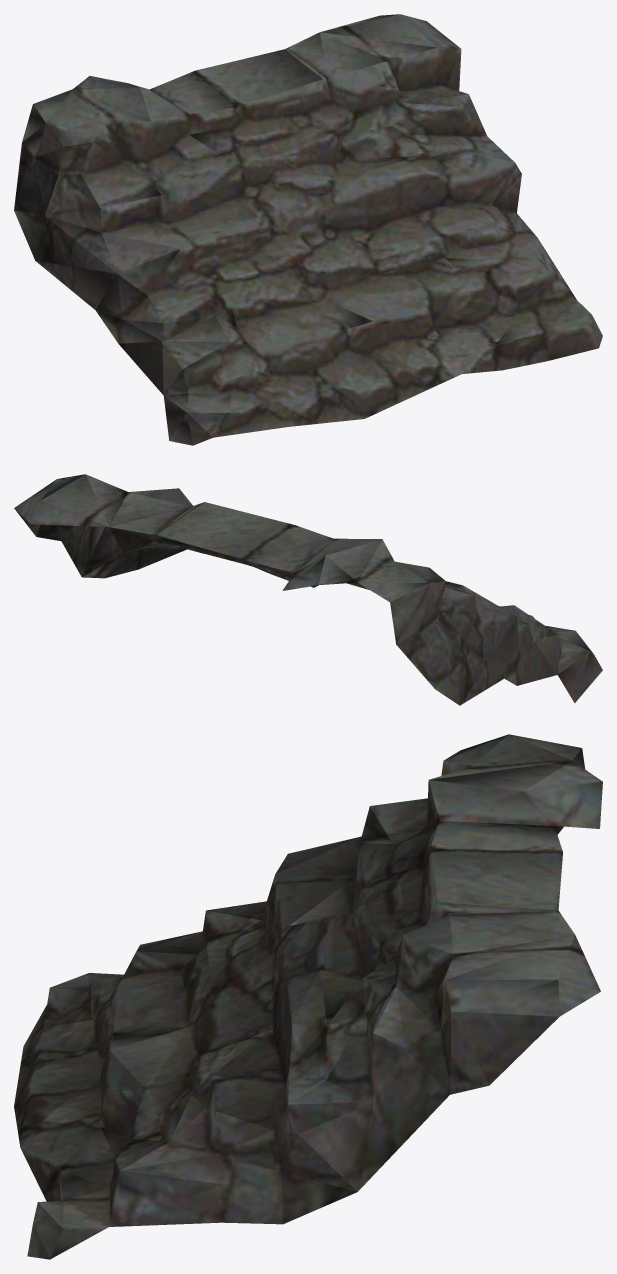
Rendered from S_Build_Desert119_2.FBX.
3 renders of one model, top to bottom at view 1: azimuth 30°, elevation 25°; view 2: azimuth 150°, elevation 25°; view 3: azimuth 270°, elevation 25°, orthographic. The views are drawn at different scales.
Parts seen in each view (by area): view 1: S_Build_Desert119_2; view 2: S_Build_Desert119_2; view 3: S_Build_Desert119_2.
Boxes of the visible parts, x1,y1,x2,y2 form: S_Build_Desert119_2: (14, 14, 602, 445); S_Build_Desert119_2: (14, 474, 602, 705); S_Build_Desert119_2: (14, 734, 602, 1259).
Size of the model in its own units: 500 by 429 by 250.
Materials: 1 (1 with a texture image).
